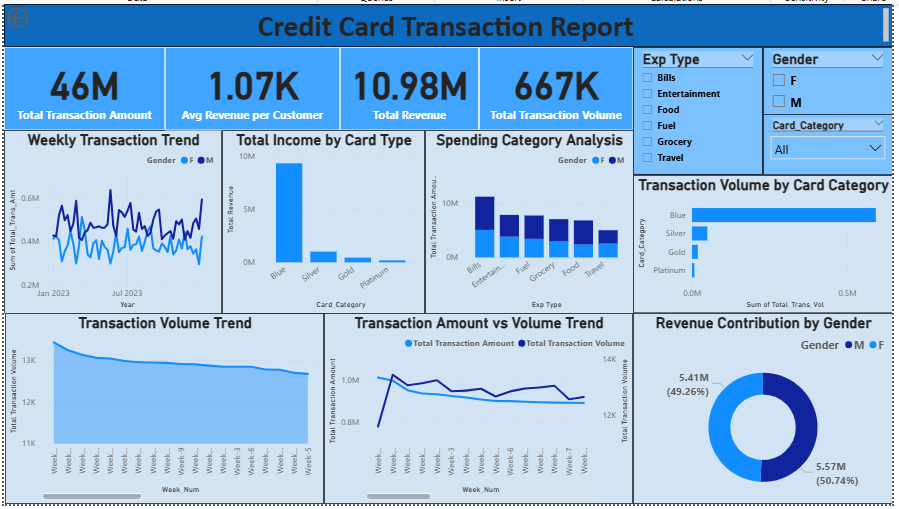

What the dashboard file says about the page in this screenshot:
{"tool":"powerbi","page":{"name":"Credit Card Transaction Report","canvas":[1280,720],"ordinal":1},"visuals":[{"type":"textbox","box":[0,0,1280.2,61.9],"z":0},{"type":"card","fields":{"Values":["Transaction.Total Transaction Amount"]},"box":[0,61.9,231.8,119.5],"z":1000},{"type":"card","fields":{"Values":["Transaction.Total Transaction Volume"]},"box":[684,61.9,221.8,119.5],"z":2000},{"type":"card","fields":{"Values":["Transaction.Total Revenue"]},"box":[483.8,61.9,200.2,119.5],"z":4000},{"type":"lineChart","title":"Weekly Transaction Trend","fields":{"Y":["Sum(Transaction.Total_Trans_Amt)"],"Category":["Transaction.Week_Start_Date.Variation.Date Hierarchy.Year","Transaction.Week_Start_Date.Variation.Date Hierarchy.Quarter","Transaction.Week_Start_Date.Variation.Date Hierarchy.Month","Transaction.Week_Start_Date.Variation.Date Hierarchy.Day"],"Series":["Customer.Gender"]},"box":[0,181.4,313.9,263.5],"z":5000},{"type":"columnChart","title":"Spending Category Analysis","fields":{"Category":["Transaction.Exp Type"],"Y":["Transaction.Total Transaction Amount"],"Series":["Customer.Gender"]},"box":[606.2,181.4,299.5,263.5],"z":6000},{"type":"clusteredBarChart","title":"Transaction Volume by Card Category","fields":{"Category":["Transaction.Card_Category"],"Y":["Sum(Transaction.Total_Trans_Vol)"]},"box":[905.8,246.2,374.4,198.7],"z":7000},{"type":"donutChart","title":"Revenue Contribution by Gender","fields":{"Category":["Customer.Gender"],"Y":["Transaction.Total Revenue"]},"box":[905.8,445,374.4,275],"z":8000},{"type":"slicer","fields":{"Values":["Customer.Gender"]},"box":[1093,61.9,187.2,105.1],"z":10000},{"type":"slicer","fields":{"Values":["Transaction.Card_Category"]},"box":[1093,158.4,187.2,87.8],"z":11000},{"type":"slicer","fields":{"Values":["Transaction.Exp Type"]},"box":[905.8,61.9,187.2,184.3],"z":12000},{"type":"areaChart","title":"Transaction Volume Trend","fields":{"Category":["Transaction.Week_Num"],"Y":["Transaction.Total Transaction Volume"]},"box":[1.4,445,459.4,275],"z":13000},{"type":"card","fields":{"Values":["Customer.Avg Revenue per Customer"]},"box":[231.8,61.9,252,119.5],"z":14000},{"type":"columnChart","title":"Total Income by Card Type","fields":{"Category":["Transaction.Card_Category"],"Y":["Transaction.Total Revenue"]},"box":[313.9,181.4,292.3,263.5],"z":14001},{"type":"lineChart","title":"Transaction Amount vs Volume Trend","fields":{"Category":["Transaction.Week_Num"],"Y":["Transaction.Total Transaction Amount"],"Y2":["Transaction.Total Transaction Volume"]},"box":[460.8,445,445,275],"z":14002},{"type":"actionButton","box":[0,0,100,40],"z":14003}]}

Visuals, with their boxes in screenshot pixels (x1, y1, x2, y2):
textbox: l=2, t=2, r=889, b=45
card - Transaction.Total Transaction Amount: l=2, t=45, r=163, b=128
card - Transaction.Total Transaction Volume: l=476, t=45, r=630, b=128
card - Transaction.Total Revenue: l=337, t=45, r=476, b=128
"Weekly Transaction Trend" lineChart: l=2, t=128, r=220, b=310
"Spending Category Analysis" columnChart: l=422, t=128, r=630, b=310
"Transaction Volume by Card Category" clusteredBarChart: l=630, t=173, r=889, b=310
"Revenue Contribution by Gender" donutChart: l=630, t=311, r=889, b=501
slicer - Customer.Gender: l=759, t=45, r=889, b=118
slicer - Transaction.Card_Category: l=759, t=112, r=889, b=173
slicer - Transaction.Exp Type: l=630, t=45, r=759, b=173
"Transaction Volume Trend" areaChart: l=3, t=311, r=322, b=501
card - Customer.Avg Revenue per Customer: l=163, t=45, r=337, b=128
"Total Income by Card Type" columnChart: l=220, t=128, r=422, b=310
"Transaction Amount vs Volume Trend" lineChart: l=322, t=311, r=630, b=501
actionButton: l=2, t=2, r=72, b=30
